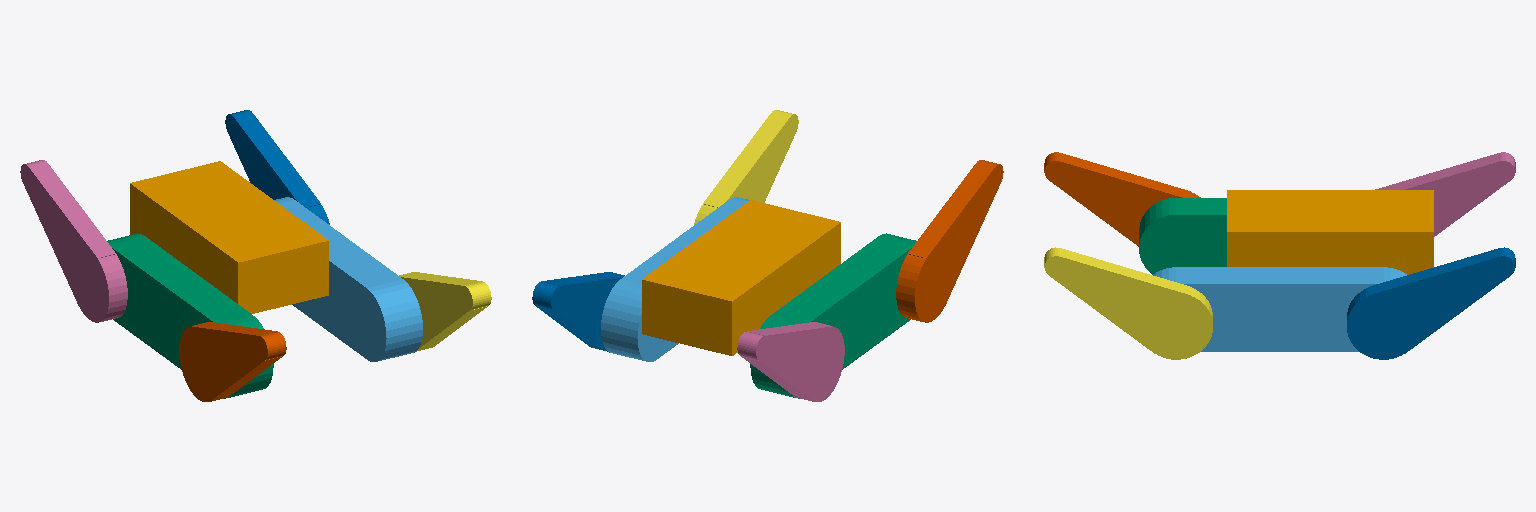
robot.urdf — simple_tracked:
<?xml version="1.0" ?>
<robot name="simple_tracked">
  <joint name="left_track_j" type="fixed">
    <parent link="base_link"/>
    <child link="left_track"/>
    <origin rpy="0      0     -1.5708" xyz="0.1985  2.99999 0.1"/>
    <axis xyz="0 0 0"/>
    <limit effort="0" lower="0" upper="0" velocity="0"/>
  </joint>
  <joint name="right_track_j" type="fixed">
    <parent link="base_link"/>
    <child link="right_track"/>
    <origin rpy="0      0     -1.5708" xyz="-0.1985  3      0.1"/>
    <axis xyz="0 0 0"/>
    <limit effort="0" lower="0" upper="0" velocity="0"/>
  </joint>
  <joint name="front_left_flipper_j" type="fixed">
    <parent link="left_track"/>
    <child link="front_left_flipper"/>
    <origin rpy="0  -0.5  0" xyz="0.25   0.0735 0.0195"/>
    <axis xyz="0 1 0"/>
    <limit effort="0.0" lower="0.0" upper="0.0" velocity="0.0"/>
  </joint>
  <joint name="rear_left_flipper_j" type="fixed">
    <parent link="left_track"/>
    <child link="rear_left_flipper"/>
    <origin rpy="3.14159 -0.5      3.14159" xyz="-0.25    0.0735  0.0195"/>
    <axis xyz="0 1 0"/>
    <limit effort="0.0" lower="0.0" upper="0.0" velocity="0.0"/>
  </joint>
  <joint name="front_right_flipper_j" type="fixed">
    <parent link="right_track"/>
    <child link="front_right_flipper"/>
    <origin rpy="3.14159 0.5     3.14159" xyz="0.25   -0.0735  0.0195"/>
    <axis xyz="0 1 0"/>
    <limit effort="0.0" lower="0.0" upper="0.0" velocity="0.0"/>
  </joint>
  <joint name="rear_right_flipper_j" type="fixed">
    <parent link="right_track"/>
    <child link="rear_right_flipper"/>
    <origin rpy="0  0.5 0" xyz="-0.25   -0.0735  0.0195"/>
    <axis xyz="0 1 0"/>
    <limit effort="0.0" lower="0.0" upper="0.0" velocity="0.0"/>
  </joint>
  <link name="base_link">
    <inertial>
      <mass value="13.14"/>
      <origin rpy="1.5708 0     0" xyz="-0.122  0     0.118"/>
      <inertia ixx="0.10019" ixy="0" ixz="0" iyy="0.345043" iyz="0" izz="0.302044"/>
    </inertial>
    <collision name="base_link_collision">
      <origin rpy="0      0     -1.5708" xyz="0    3.122 0.218"/>
      <geometry>
        <box size="0.50017 0.24093 0.139"/>
      </geometry>
    </collision>
    <visual name="base_link_visual">
      <origin rpy="0      0     -1.5708" xyz="0    3.122 0.218"/>
      <geometry>
        <box size="0.50017 0.24093 0.139"/>
      </geometry>
    </visual>
  </link>
  <link name="left_track">
    <inertial>
      <mass value="6.06"/>
      <origin rpy="0 0 0" xyz="0     0     0.0141"/>
      <inertia ixx="0.002731" ixy="0" ixz="0" iyy="0.032554" iyz="1.5e-05" izz="0.031391"/>
    </inertial>
    <collision name="left_track_collision">
      <origin rpy="1.5708 0     1.5708" xyz="0      0      0.01855"/>
      <geometry>
        <box size="0.09728 0.18094 0.5"/>
      </geometry>
    </collision>
    <collision name="left_track_collision_1">
      <origin rpy="1.5708 0     0" xyz="0.25    0      0.01855"/>
      <geometry>
        <cylinder length="0.09728" radius="0.09047"/>
      </geometry>
    </collision>
    <collision name="left_track_collision_2">
      <origin rpy="1.5708 0     0" xyz="-0.25     0       0.01855"/>
      <geometry>
        <cylinder length="0.09728" radius="0.09047"/>
      </geometry>
    </collision>
    <visual name="left_track_visual">
      <origin rpy="1.5708 0     1.5708" xyz="0      0      0.01855"/>
      <geometry>
        <box size="0.09728 0.18094 0.5"/>
      </geometry>
    </visual>
    <visual name="left_track_visual_1">
      <origin rpy="1.5708 0     0" xyz="0.25    0      0.01855"/>
      <geometry>
        <cylinder length="0.09728" radius="0.09047"/>
      </geometry>
    </visual>
    <visual name="left_track_visual_2">
      <origin rpy="1.5708 0     0" xyz="-0.25     0       0.01855"/>
      <geometry>
        <cylinder length="0.09728" radius="0.09047"/>
      </geometry>
    </visual>
  </link>
  <link name="right_track">
    <inertial>
      <mass value="6.06"/>
      <origin rpy="0 0 0" xyz="0     0     0.0141"/>
      <inertia ixx="0.002731" ixy="0" ixz="0" iyy="0.032554" iyz="1.5e-05" izz="0.031391"/>
    </inertial>
    <collision name="right_track_collision">
      <origin rpy="1.5708 0     1.5708" xyz="0      0      0.01855"/>
      <geometry>
        <box size="0.09728 0.18094 0.5"/>
      </geometry>
    </collision>
    <collision name="right_track_collision_1">
      <origin rpy="1.5708 0     0" xyz="0.25    0      0.01855"/>
      <geometry>
        <cylinder length="0.09728" radius="0.09047"/>
      </geometry>
    </collision>
    <collision name="right_track_collision_2">
      <origin rpy="1.5708 0     0" xyz="-0.25     0       0.01855"/>
      <geometry>
        <cylinder length="0.09728" radius="0.09047"/>
      </geometry>
    </collision>
    <visual name="right_track_visual">
      <origin rpy="1.5708 0     1.5708" xyz="0      0      0.01855"/>
      <geometry>
        <box size="0.09728 0.18094 0.5"/>
      </geometry>
    </visual>
    <visual name="right_track_visual_1">
      <origin rpy="1.5708 0     0" xyz="0.25    0      0.01855"/>
      <geometry>
        <cylinder length="0.09728" radius="0.09047"/>
      </geometry>
    </visual>
    <visual name="right_track_visual_2">
      <origin rpy="1.5708 0     0" xyz="-0.25     0       0.01855"/>
      <geometry>
        <cylinder length="0.09728" radius="0.09047"/>
      </geometry>
    </visual>
  </link>
  <link name="front_left_flipper">
    <inertial>
      <mass value="0.75"/>
      <origin rpy="0 0 0" xyz="0.08 0   0"/>
      <inertia ixx="0.0017491" ixy="2.8512e-07" ixz="0.0018277" iyy="0.012277" iyz="-3.6288e-07" izz="0.010941"/>
    </inertial>
    <collision name="front_left_flipper_collision_large_wheel_collision">
      <origin rpy="1.5708 0     0" xyz="0 0 0"/>
      <geometry>
        <cylinder length="0.04981" radius="0.089"/>
      </geometry>
    </collision>
    <collision name="front_left_flipper_collision_small_wheel_collision_1">
      <origin rpy="1.5708 0     0" xyz="0.33 0   0"/>
      <geometry>
        <cylinder length="0.04981" radius="0.029"/>
      </geometry>
    </collision>
    <collision name="front_left_flipper_collision_top_bar_collision_2">
      <origin rpy="0      0.18416 0" xyz="0.165  0     0.0325"/>
      <geometry>
        <box size="0.33 0.04981 0.055"/>
      </geometry>
    </collision>
    <collision name="front_left_flipper_collision_bottom_bar_collision_3">
      <origin rpy="0      -0.18416  0" xyz="0.165   0     -0.0325"/>
      <geometry>
        <box size="0.33 0.04981 0.055"/>
      </geometry>
    </collision>
    <collision name="front_left_flipper_collision_middle_bar_collision_4">
      <origin rpy="0   -0.02  0" xyz="0.166 0    0.004"/>
      <geometry>
        <box size="0.2 0.04981 0.07"/>
      </geometry>
    </collision>
    <visual name="front_left_flipper_visual_large_wheel_visual">
      <origin rpy="1.5708 0     0" xyz="0 0 0"/>
      <geometry>
        <cylinder length="0.04981" radius="0.089"/>
      </geometry>
    </visual>
    <visual name="front_left_flipper_visual_small_wheel_visual_1">
      <origin rpy="1.5708 0     0" xyz="0.33 0   0"/>
      <geometry>
        <cylinder length="0.04981" radius="0.029"/>
      </geometry>
    </visual>
    <visual name="front_left_flipper_visual_top_bar_visual_2">
      <origin rpy="0      0.18416 0" xyz="0.165  0     0.0325"/>
      <geometry>
        <box size="0.33 0.04981 0.055"/>
      </geometry>
    </visual>
    <visual name="front_left_flipper_visual_bottom_bar_visual_3">
      <origin rpy="0      -0.18416  0" xyz="0.165   0     -0.0325"/>
      <geometry>
        <box size="0.33 0.04981 0.055"/>
      </geometry>
    </visual>
    <visual name="front_left_flipper_visual_middle_bar_visual_4">
      <origin rpy="0   -0.02  0" xyz="0.166 0    0.004"/>
      <geometry>
        <box size="0.2 0.04981 0.07"/>
      </geometry>
    </visual>
  </link>
  <link name="rear_left_flipper">
    <inertial>
      <mass value="0.75"/>
      <origin rpy="0 0 0" xyz="0.08 0   0"/>
      <inertia ixx="0.0017491" ixy="2.8512e-07" ixz="0.0018277" iyy="0.012277" iyz="-3.6288e-07" izz="0.010941"/>
    </inertial>
    <collision name="rear_left_flipper_collision_large_wheel_collision">
      <origin rpy="1.5708 0     0" xyz="0 0 0"/>
      <geometry>
        <cylinder length="0.04981" radius="0.089"/>
      </geometry>
    </collision>
    <collision name="rear_left_flipper_collision_small_wheel_collision_1">
      <origin rpy="1.5708 0     0" xyz="0.33 0   0"/>
      <geometry>
        <cylinder length="0.04981" radius="0.029"/>
      </geometry>
    </collision>
    <collision name="rear_left_flipper_collision_top_bar_collision_2">
      <origin rpy="0      0.18416 0" xyz="0.165  0     0.0325"/>
      <geometry>
        <box size="0.33 0.04981 0.055"/>
      </geometry>
    </collision>
    <collision name="rear_left_flipper_collision_bottom_bar_collision_3">
      <origin rpy="0      -0.18416  0" xyz="0.165   0     -0.0325"/>
      <geometry>
        <box size="0.33 0.04981 0.055"/>
      </geometry>
    </collision>
    <collision name="rear_left_flipper_collision_middle_bar_collision_4">
      <origin rpy="0   -0.02  0" xyz="0.166 0    0.004"/>
      <geometry>
        <box size="0.2 0.04981 0.07"/>
      </geometry>
    </collision>
    <visual name="rear_left_flipper_visual_large_wheel_visual">
      <origin rpy="1.5708 0     0" xyz="0 0 0"/>
      <geometry>
        <cylinder length="0.04981" radius="0.089"/>
      </geometry>
    </visual>
    <visual name="rear_left_flipper_visual_small_wheel_visual_1">
      <origin rpy="1.5708 0     0" xyz="0.33 0   0"/>
      <geometry>
        <cylinder length="0.04981" radius="0.029"/>
      </geometry>
    </visual>
    <visual name="rear_left_flipper_visual_top_bar_visual_2">
      <origin rpy="0      0.18416 0" xyz="0.165  0     0.0325"/>
      <geometry>
        <box size="0.33 0.04981 0.055"/>
      </geometry>
    </visual>
    <visual name="rear_left_flipper_visual_bottom_bar_visual_3">
      <origin rpy="0      -0.18416  0" xyz="0.165   0     -0.0325"/>
      <geometry>
        <box size="0.33 0.04981 0.055"/>
      </geometry>
    </visual>
    <visual name="rear_left_flipper_visual_middle_bar_visual_4">
      <origin rpy="0   -0.02  0" xyz="0.166 0    0.004"/>
      <geometry>
        <box size="0.2 0.04981 0.07"/>
      </geometry>
    </visual>
  </link>
  <link name="front_right_flipper">
    <inertial>
      <mass value="0.75"/>
      <origin rpy="0 0 0" xyz="-0.08  0    0"/>
      <inertia ixx="0.0017491" ixy="2.8512e-07" ixz="0.0018277" iyy="0.012277" iyz="-3.6288e-07" izz="0.010941"/>
    </inertial>
    <collision name="front_right_flipper_collision_large_wheel_collision">
      <origin rpy="1.5708 0     0" xyz="0 0 0"/>
      <geometry>
        <cylinder length="0.04981" radius="0.089"/>
      </geometry>
    </collision>
    <collision name="front_right_flipper_collision_small_wheel_collision_1">
      <origin rpy="1.5708 0     0" xyz="-0.33  0    0"/>
      <geometry>
        <cylinder length="0.04981" radius="0.029"/>
      </geometry>
    </collision>
    <collision name="front_right_flipper_collision_top_bar_collision_2">
      <origin rpy="0       0.18416 -3.14159" xyz="-0.165   0      0.0325"/>
      <geometry>
        <box size="0.33 0.04981 0.055"/>
      </geometry>
    </collision>
    <collision name="front_right_flipper_collision_bottom_bar_collision_3">
      <origin rpy="0      -0.18416 -3.14159" xyz="-0.165   0     -0.0325"/>
      <geometry>
        <box size="0.33 0.04981 0.055"/>
      </geometry>
    </collision>
    <collision name="front_right_flipper_collision_middle_bar_collision_4">
      <origin rpy="0      -0.02    -3.14159" xyz="-0.166  0     0.004"/>
      <geometry>
        <box size="0.2 0.04981 0.07"/>
      </geometry>
    </collision>
    <visual name="front_right_flipper_visual_large_wheel_visual">
      <origin rpy="1.5708 0     0" xyz="0 0 0"/>
      <geometry>
        <cylinder length="0.04981" radius="0.089"/>
      </geometry>
    </visual>
    <visual name="front_right_flipper_visual_small_wheel_visual_1">
      <origin rpy="1.5708 0     0" xyz="-0.33  0    0"/>
      <geometry>
        <cylinder length="0.04981" radius="0.029"/>
      </geometry>
    </visual>
    <visual name="front_right_flipper_visual_top_bar_visual_2">
      <origin rpy="0       0.18416 -3.14159" xyz="-0.165   0      0.0325"/>
      <geometry>
        <box size="0.33 0.04981 0.055"/>
      </geometry>
    </visual>
    <visual name="front_right_flipper_visual_bottom_bar_visual_3">
      <origin rpy="0      -0.18416 -3.14159" xyz="-0.165   0     -0.0325"/>
      <geometry>
        <box size="0.33 0.04981 0.055"/>
      </geometry>
    </visual>
    <visual name="front_right_flipper_visual_middle_bar_visual_4">
      <origin rpy="0      -0.02    -3.14159" xyz="-0.166  0     0.004"/>
      <geometry>
        <box size="0.2 0.04981 0.07"/>
      </geometry>
    </visual>
  </link>
  <link name="rear_right_flipper">
    <inertial>
      <mass value="0.75"/>
      <origin rpy="0 0 0" xyz="-0.08  0    0"/>
      <inertia ixx="0.0017491" ixy="2.8512e-07" ixz="0.0018277" iyy="0.012277" iyz="-3.6288e-07" izz="0.010941"/>
    </inertial>
    <collision name="rear_right_flipper_collision_large_wheel_collision">
      <origin rpy="1.5708 0     0" xyz="0 0 0"/>
      <geometry>
        <cylinder length="0.04981" radius="0.089"/>
      </geometry>
    </collision>
    <collision name="rear_right_flipper_collision_small_wheel_collision_1">
      <origin rpy="1.5708 0     0" xyz="-0.33  0    0"/>
      <geometry>
        <cylinder length="0.04981" radius="0.029"/>
      </geometry>
    </collision>
    <collision name="rear_right_flipper_collision_top_bar_collision_2">
      <origin rpy="0       0.18416 -3.14159" xyz="-0.165   0      0.0325"/>
      <geometry>
        <box size="0.33 0.04981 0.055"/>
      </geometry>
    </collision>
    <collision name="rear_right_flipper_collision_bottom_bar_collision_3">
      <origin rpy="0      -0.18416 -3.14159" xyz="-0.165   0     -0.0325"/>
      <geometry>
        <box size="0.33 0.04981 0.055"/>
      </geometry>
    </collision>
    <collision name="rear_right_flipper_collision_middle_bar_collision_4">
      <origin rpy="0      -0.02    -3.14159" xyz="-0.166  0     0.004"/>
      <geometry>
        <box size="0.2 0.04981 0.07"/>
      </geometry>
    </collision>
    <visual name="rear_right_flipper_visual_large_wheel_visual">
      <origin rpy="1.5708 0     0" xyz="0 0 0"/>
      <geometry>
        <cylinder length="0.04981" radius="0.089"/>
      </geometry>
    </visual>
    <visual name="rear_right_flipper_visual_small_wheel_visual_1">
      <origin rpy="1.5708 0     0" xyz="-0.33  0    0"/>
      <geometry>
        <cylinder length="0.04981" radius="0.029"/>
      </geometry>
    </visual>
    <visual name="rear_right_flipper_visual_top_bar_visual_2">
      <origin rpy="0       0.18416 -3.14159" xyz="-0.165   0      0.0325"/>
      <geometry>
        <box size="0.33 0.04981 0.055"/>
      </geometry>
    </visual>
    <visual name="rear_right_flipper_visual_bottom_bar_visual_3">
      <origin rpy="0      -0.18416 -3.14159" xyz="-0.165   0     -0.0325"/>
      <geometry>
        <box size="0.33 0.04981 0.055"/>
      </geometry>
    </visual>
    <visual name="rear_right_flipper_visual_middle_bar_visual_4">
      <origin rpy="0      -0.02    -3.14159" xyz="-0.166  0     0.004"/>
      <geometry>
        <box size="0.2 0.04981 0.07"/>
      </geometry>
    </visual>
  </link>
<gazebo>
      <!--plugin name="gazebo_ros_control" filename="libgazebo_ros_control.so">
          <robotNamespace>/simple_tracked</robotNamespace>
          <robotSimType>gazebo_ros_control/DefaultRobotHWSim</robotSimType>
      </plugin-->

        <!--plugin filename="libKeysToCmdVelPlugin.so" name="keyboard_control">
          <publish_as_twist>true</publish_as_twist>
          <cmd_vel_topic>~/simple_tracked/cmd_vel_twist</cmd_vel_topic>
      </plugin-->

          <!--plugin filename="libSpaceChallengerPlugin.so" name="simple_tracked_vehicle">
          <body>base_link</body>
          <left_track>left_track</left_track>
          <right_track>right_track</right_track>
          <left_flipper>front_left_flipper</left_flipper>
          <left_flipper>rear_left_flipper</left_flipper>
          <right_flipper>front_right_flipper</right_flipper>
          <right_flipper>rear_right_flipper</right_flipper>
          <track_mu>2</track_mu>
          <track_mu2>0.5</track_mu2>
      </plugin-->
</gazebo>

    <!--transmission name="tran1">
          <type>transmission_interface/SimpleTransmission</type>
          <joint name="front_left_flipper_j">
          <hardwareInterface>hardware_interface/PositionJointInterface</hardwareInterface>
          </joint>
          <actuator name="motor1">
          <hardwareInterface>hardware_interface/PositionJointInterface</hardwareInterface>
          <mechanicalReduction>1</mechanicalReduction>
          </actuator>
      </transmission>

      <transmission name="tran2">
          <type>transmission_interface/SimpleTransmission</type>
          <joint name="front_right_flipper_j">
          <hardwareInterface>hardware_interface/PositionJointInterface</hardwareInterface>
          </joint>
          <actuator name="motor2">
          <hardwareInterface>hardware_interface/PositionJointInterface</hardwareInterface>
          <mechanicalReduction>1</mechanicalReduction>
          </actuator>
      </transmission-->

</robot>

--- Render facts (derived) ---
The picture shows the robot from 3 angles, left to right: view 1: azimuth 30°, elevation 25°; view 2: azimuth 150°, elevation 25°; view 3: azimuth 270°, elevation 25°; orthographic projection.
Robot: simple_tracked — 7 links, 6 joints (6 fixed); root link base_link; default pose: all joints at 0.
Links seen in each view (by area): view 1: base_link, left_track, right_track, rear_right_flipper, front_right_flipper, rear_left_flipper, front_left_flipper; view 2: base_link, right_track, front_right_flipper, rear_right_flipper, left_track, front_left_flipper, rear_left_flipper; view 3: base_link, left_track, front_left_flipper, rear_left_flipper, right_track, front_right_flipper, rear_right_flipper.
Link boxes in pixels (x1,y1,x2,y2): base_link: (130, 161, 328, 313); left_track: (274, 197, 422, 361); right_track: (107, 233, 273, 398); rear_right_flipper: (20, 160, 127, 322); front_right_flipper: (179, 322, 286, 401); rear_left_flipper: (225, 110, 329, 224); front_left_flipper: (399, 272, 491, 351); base_link: (642, 200, 840, 355); right_track: (750, 233, 916, 398); front_right_flipper: (896, 160, 1003, 322); rear_right_flipper: (737, 322, 844, 401); left_track: (601, 197, 749, 361); front_left_flipper: (694, 110, 798, 224); rear_left_flipper: (532, 272, 624, 351); base_link: (1227, 190, 1433, 274); left_track: (1153, 267, 1406, 351); front_left_flipper: (1044, 247, 1212, 359); rear_left_flipper: (1347, 247, 1515, 359); right_track: (1139, 198, 1226, 274); front_right_flipper: (1044, 152, 1200, 246); rear_right_flipper: (1375, 152, 1515, 236).
Bounding box of the posed robot: 0.5938 × 1.14 × 0.2785 m (x, y, z).
Geometry: primitives only (box / cylinder / sphere), no mesh files.
